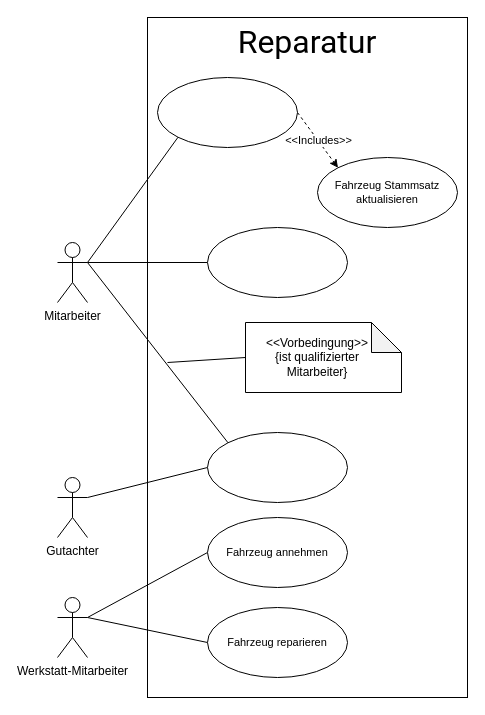
Image size: 485x715. Some labels were removed from this diagram. The shapes that lost their labels are listed below. From the top down, each one's box as (x1, y1, x2, y2) in pixels, then its label:
(156, 76, 298, 148): Fahrzeug von Werkstatt zurücknehmen
(206, 226, 348, 298): Reparatur in Auftrag geben
(206, 432, 348, 502): Schaden untersuchen
